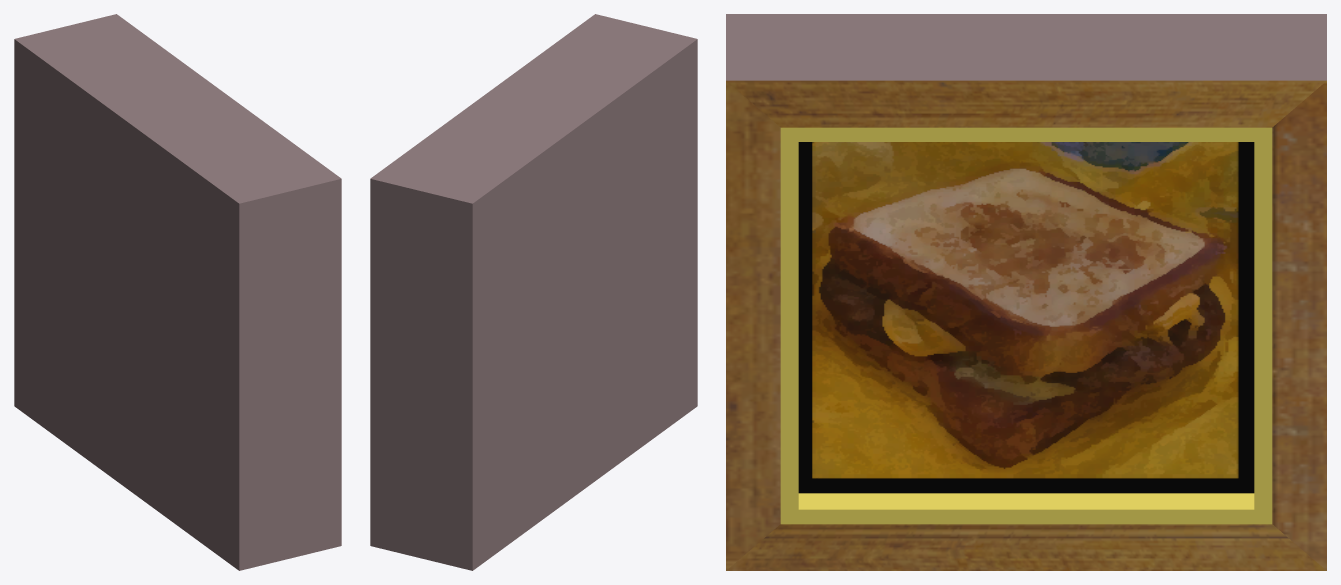
File: Painting_Framed_4.fbx
The picture shows the model from 3 angles, left to right: view 1: azimuth 30°, elevation 25°; view 2: azimuth 150°, elevation 25°; view 3: azimuth 270°, elevation 25°; orthographic projection. The views are drawn at different scales.
Parts seen in each view (by area): view 1: Painting2; view 2: Painting2; view 3: Painting2.
Boxes of the visible parts, x1=… form: Painting2: x1=14, y1=14, x2=341, y2=570; Painting2: x1=370, y1=14, x2=697, y2=570; Painting2: x1=726, y1=14, x2=1326, y2=570.
Size of the model in its own units: 32.75 by 112 by 125.
